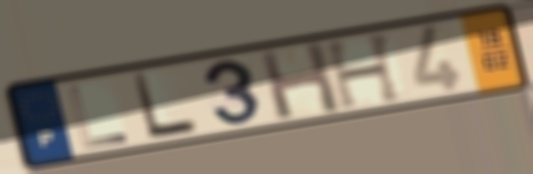3: (197, 57, 267, 128)
4: (410, 20, 466, 96)
H: (255, 39, 346, 123), (321, 29, 407, 113)
L: (128, 70, 203, 143), (65, 83, 133, 151)
